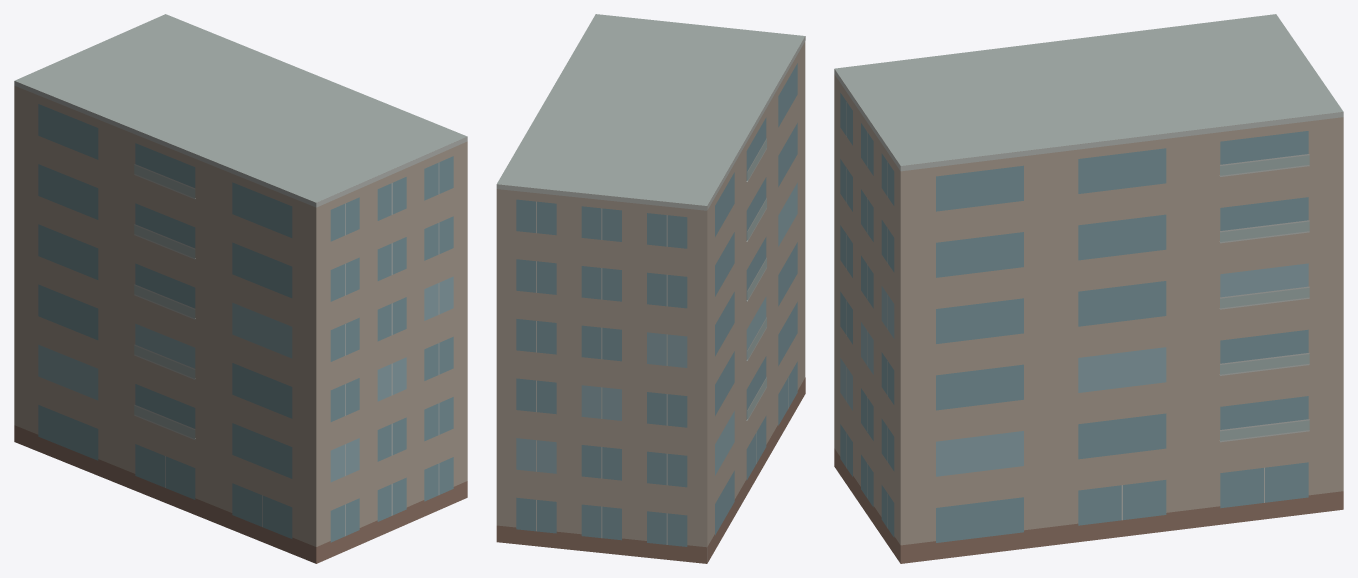
Rendered from survey-upis-33018366.glb.
The picture shows the model from 3 angles, left to right: view 1: azimuth 30°, elevation 25°; view 2: azimuth 150°, elevation 25°; view 3: azimuth 270°, elevation 25°; orthographic projection. The views are drawn at different scales.
Visible parts, largest first — view 1: survey-upis-33018366.tmp; view 2: survey-upis-33018366.tmp; view 3: survey-upis-33018366.tmp.
Boxes of the visible parts, x1,y1,x2,y2 form: survey-upis-33018366.tmp: (14, 14, 467, 563); survey-upis-33018366.tmp: (496, 14, 805, 563); survey-upis-33018366.tmp: (834, 14, 1343, 563).
Size of the model in its own units: 15.01 by 18.3 by 21.25.
